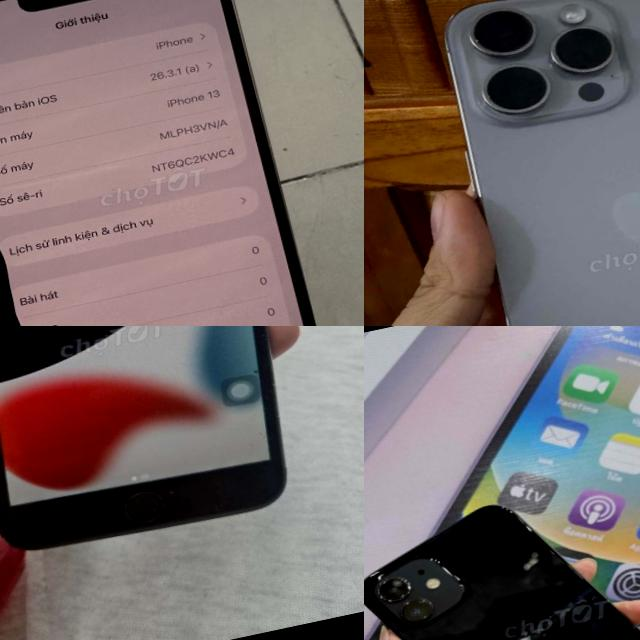gen_12_13: (0, 0, 364, 326), (364, 467, 640, 640)
gen_15: (419, 0, 640, 326)
gen_7_8: (0, 326, 326, 570)
